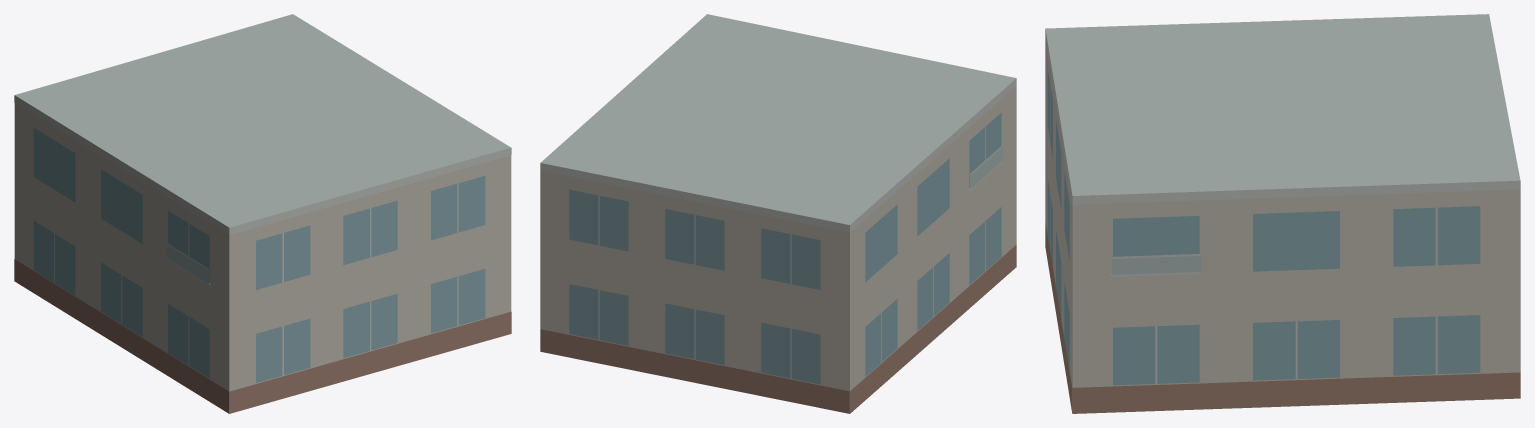
File: survey-upis-32698626.glb
The picture shows the model from 3 angles, left to right: view 1: azimuth 30°, elevation 25°; view 2: azimuth 150°, elevation 25°; view 3: azimuth 270°, elevation 25°; orthographic projection. The views are drawn at different scales.
Parts seen in each view (by area): view 1: survey-upis-32698626.tmp; view 2: survey-upis-32698626.tmp; view 3: survey-upis-32698626.tmp.
Boxes of the visible parts, <box> form: survey-upis-32698626.tmp: <box>14,14,511,413</box>; survey-upis-32698626.tmp: <box>540,14,1016,413</box>; survey-upis-32698626.tmp: <box>1045,14,1520,413</box>.
Bounding box in the file's own units: 10.94 × 6.1 × 12.07.
